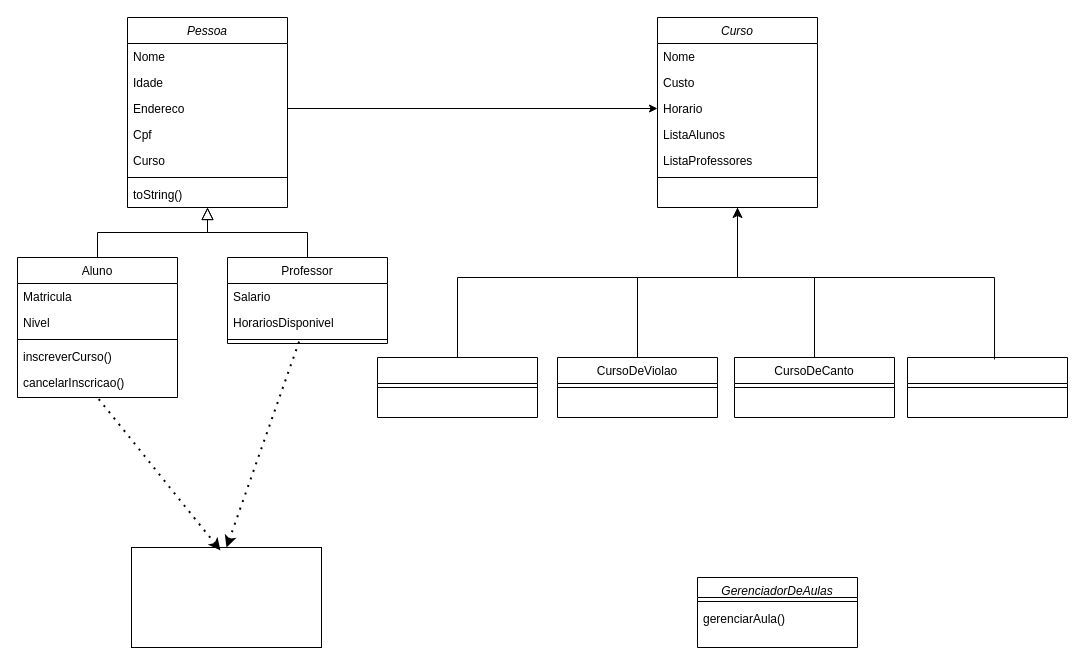
The diagram is 1085 pixels wide and 665 high, and some of its shapes have lost their labels. Each missing label, with the centre of its shape:
<<Interface>> Agendavel agendarAula() cancelarAula() visualizaAulas(): pixel 226 597
CursoDePiano: pixel 457 387
CursoDeTeoriaMusical: pixel 987 387
